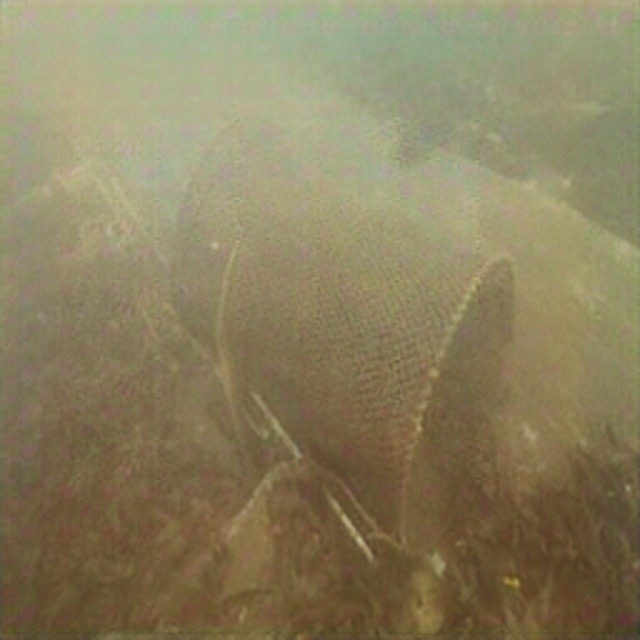mine: (168, 112, 518, 556)
